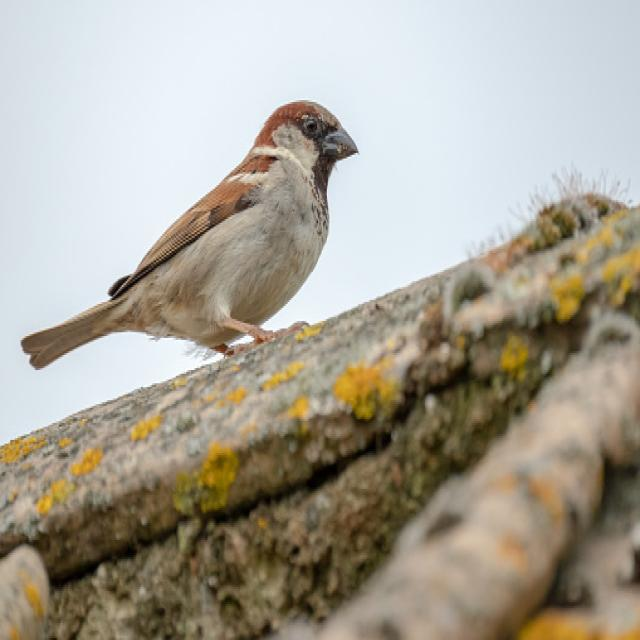bird: (104, 97, 352, 385)
